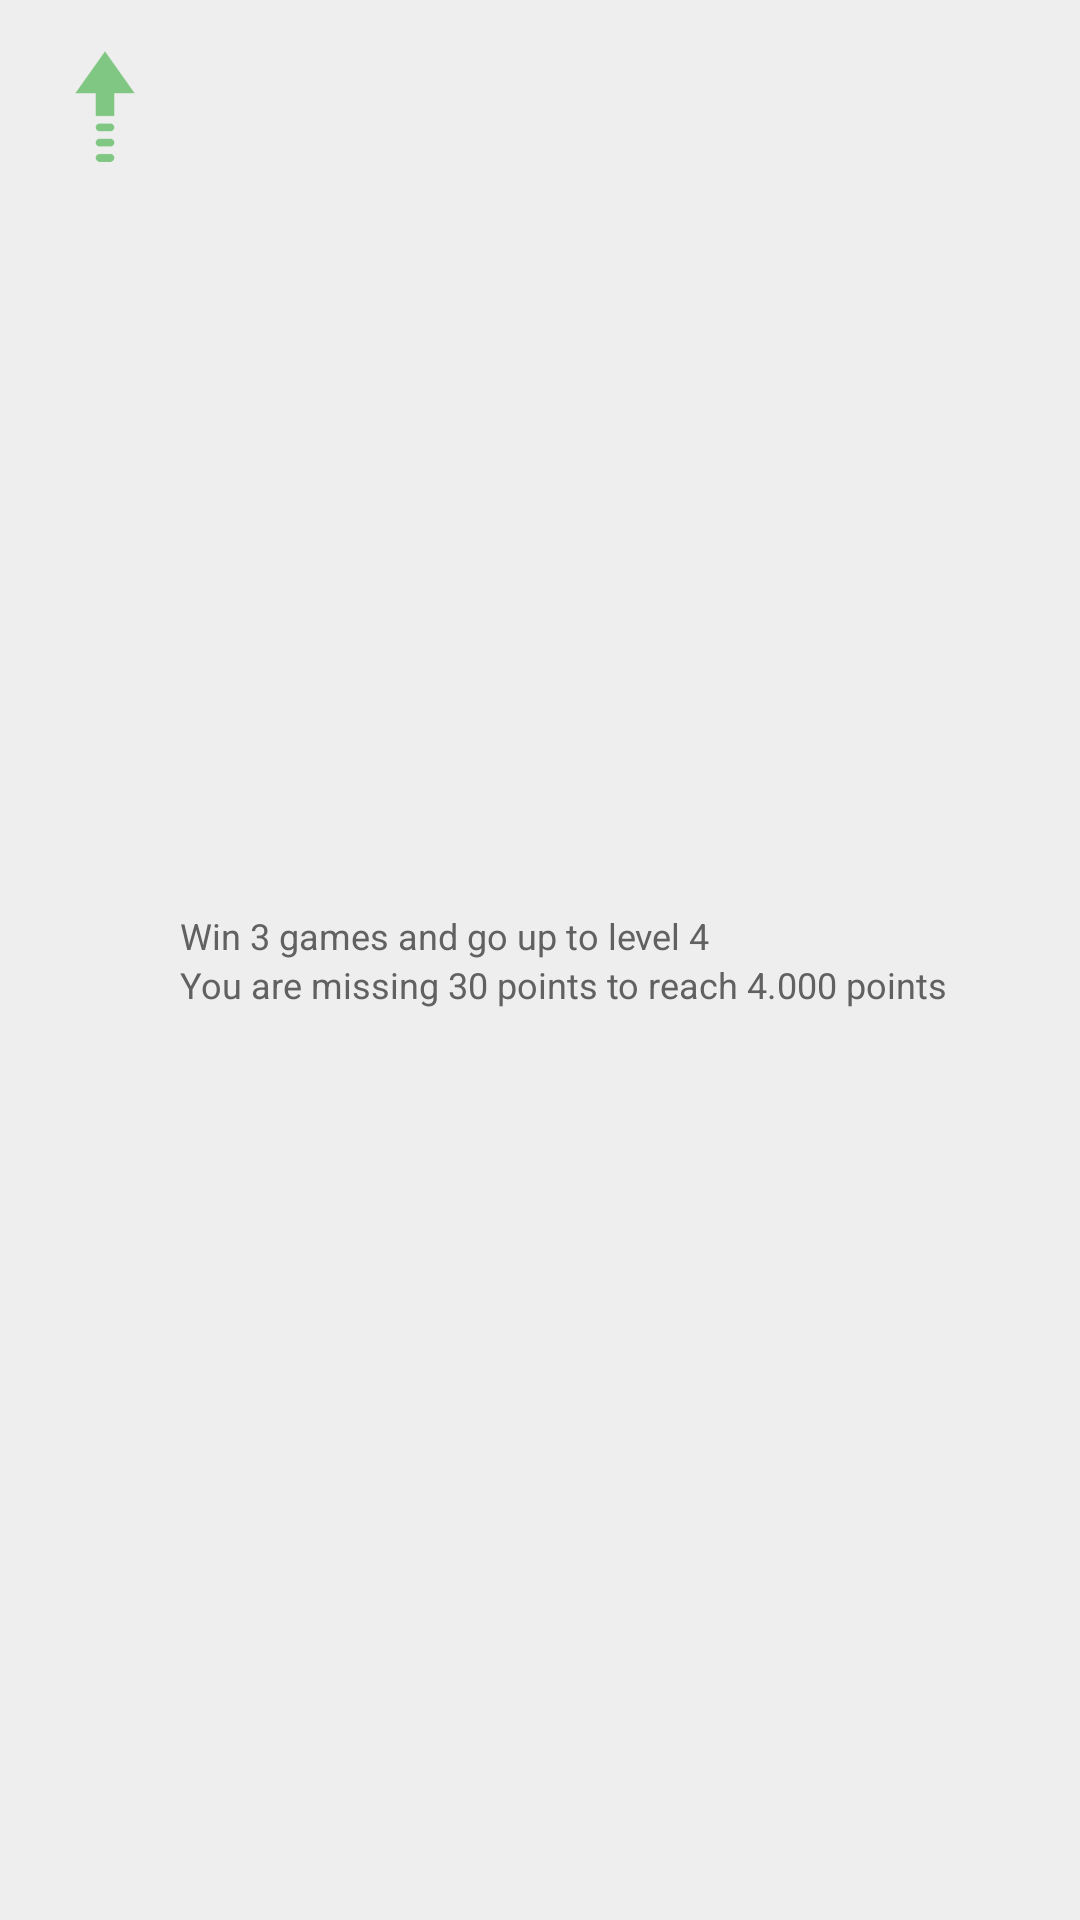

Icon click points for this 1080x1920 phone screenshot, format (x,y):
arrow: (105,107)
